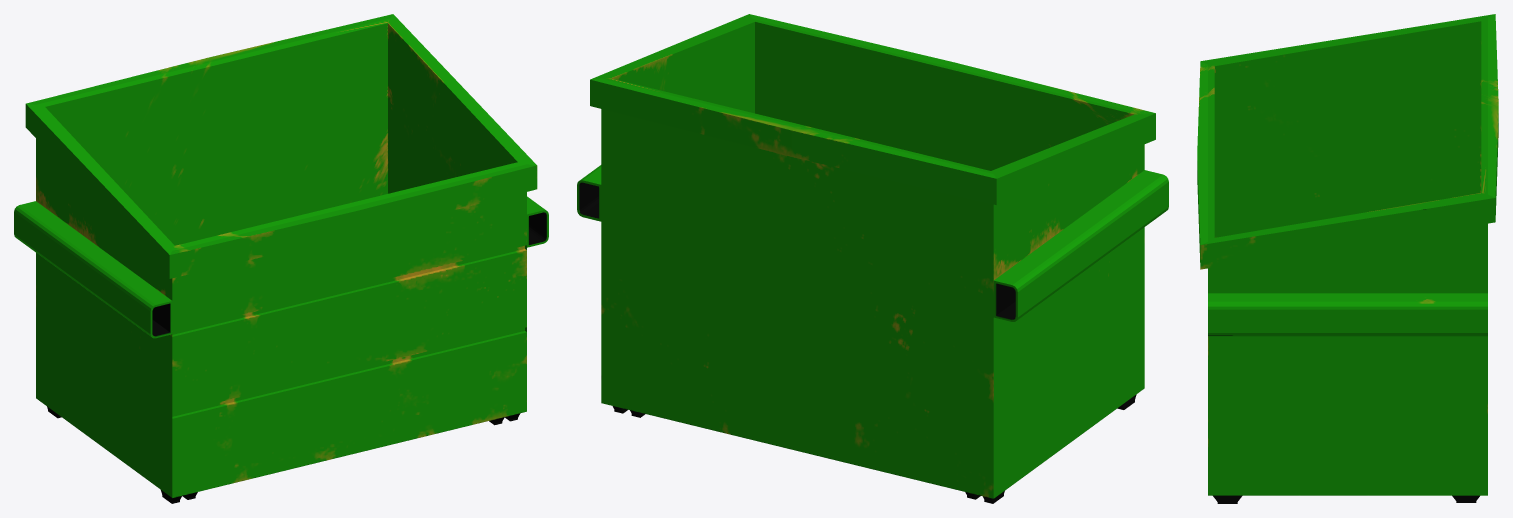
The model's file is DumpsterBase.glb.
The picture shows the model from 3 angles, left to right: view 1: azimuth 30°, elevation 25°; view 2: azimuth 150°, elevation 25°; view 3: azimuth 270°, elevation 25°; orthographic projection. The views are drawn at different scales.
Visible parts, largest first — view 1: Dumpster; view 2: Dumpster; view 3: Dumpster.
Boxes of the visible parts, box(x1,y1,x2,y2) form: Dumpster: box(14, 14, 548, 503); Dumpster: box(577, 14, 1168, 503); Dumpster: box(1197, 14, 1498, 503).
Bounding box in the file's own units: 2.05 × 1.5 × 1.31.
2 materials, 2 textured.
